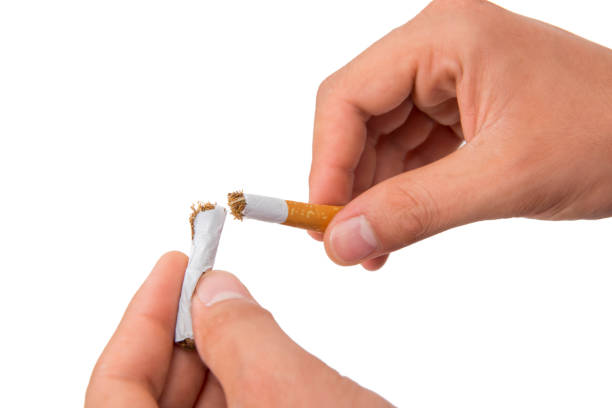cigarette: (173, 202, 228, 346), (225, 190, 348, 230)
